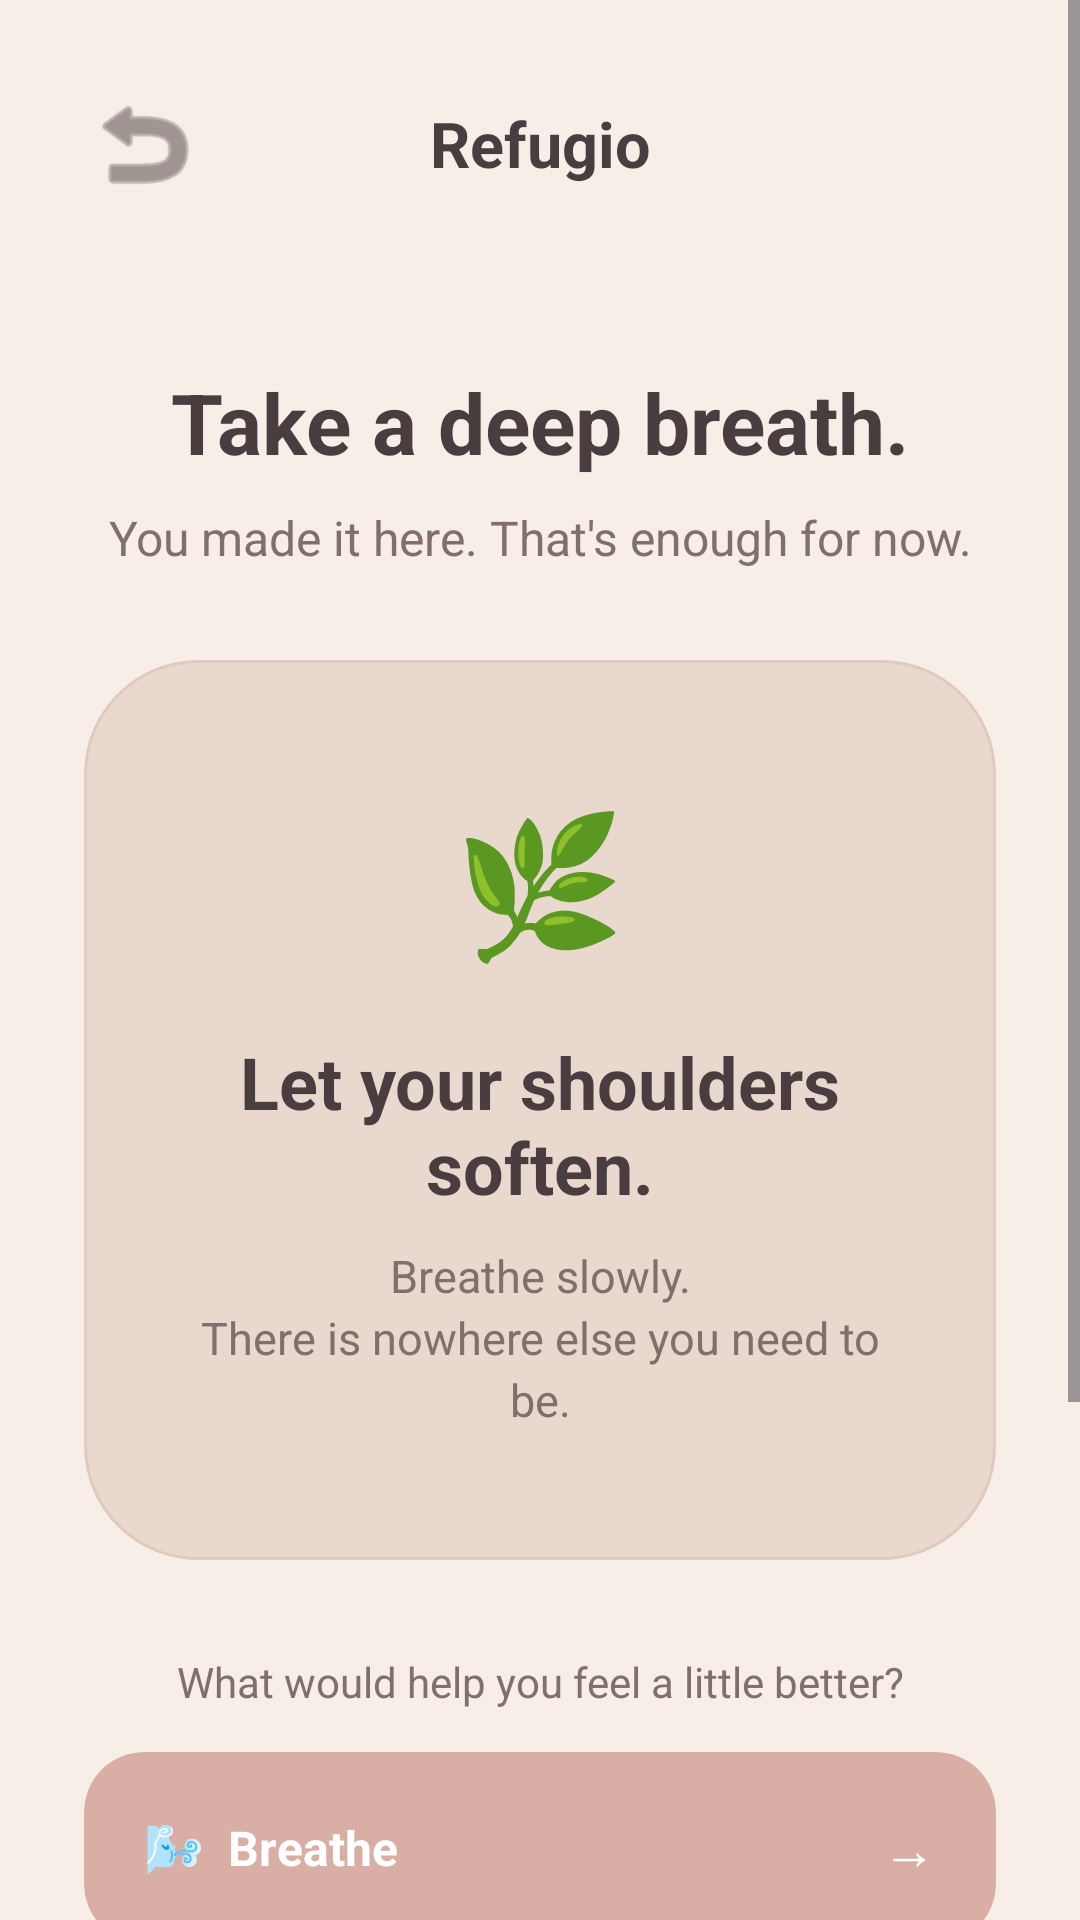

Where to tap for icons on this 1080px x 1920px app screen, as (x=x, y=y):
Back: (x=146, y=145)
